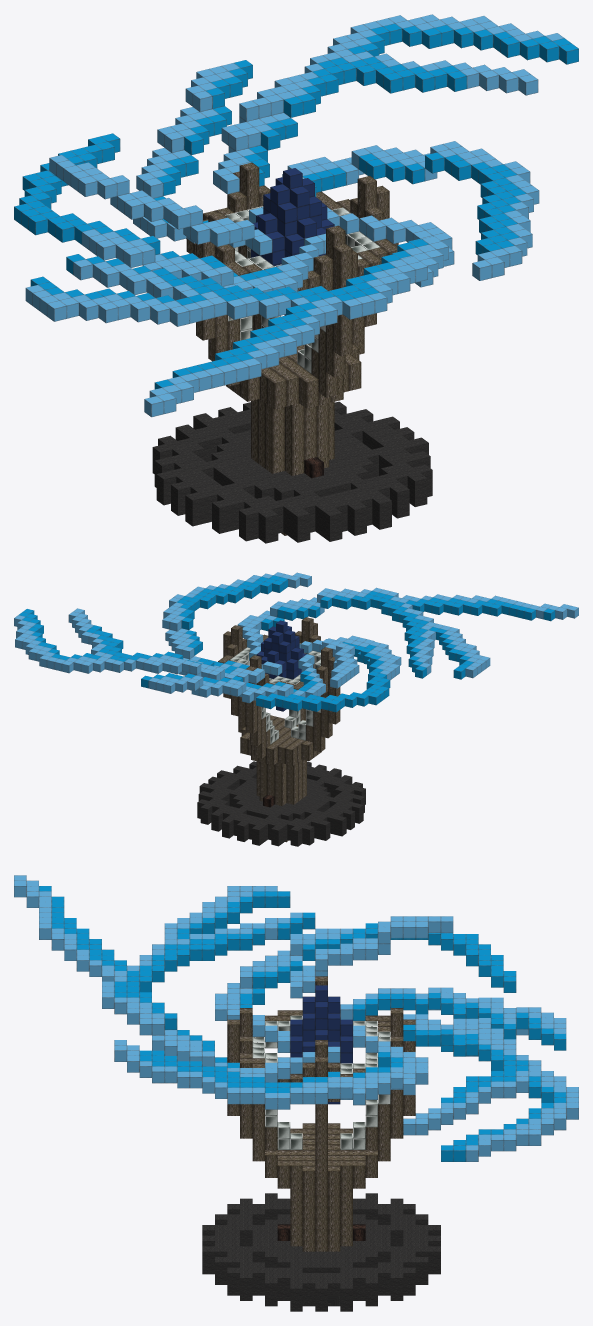
The model's file is magic.fbx.
The picture shows the model from 3 angles, top to bottom: view 1: azimuth 30°, elevation 25°; view 2: azimuth 150°, elevation 25°; view 3: azimuth 270°, elevation 25°; orthographic projection. The views are drawn at different scales.
Parts seen in each view (by area): view 1: magic; view 2: magic; view 3: magic.
Part boxes in pixels (x1=…): magic: x1=14, y1=14, x2=578, y2=543; magic: x1=14, y1=572, x2=578, y2=846; magic: x1=14, y1=875, x2=578, y2=1311.
Size of the model in its own units: 5400 by 2700 by 4500.
Materials: 8 (8 with a texture image).
